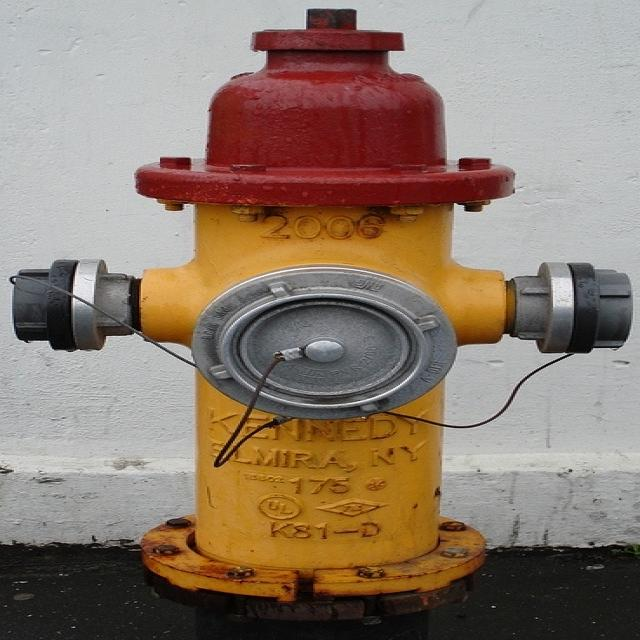fire_hydrant: (54, 40, 628, 609)
